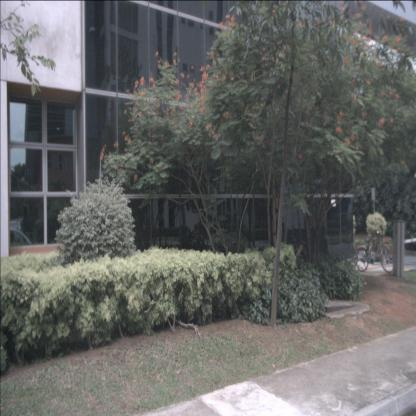vehicle-bicycle: (355, 230, 395, 272)
